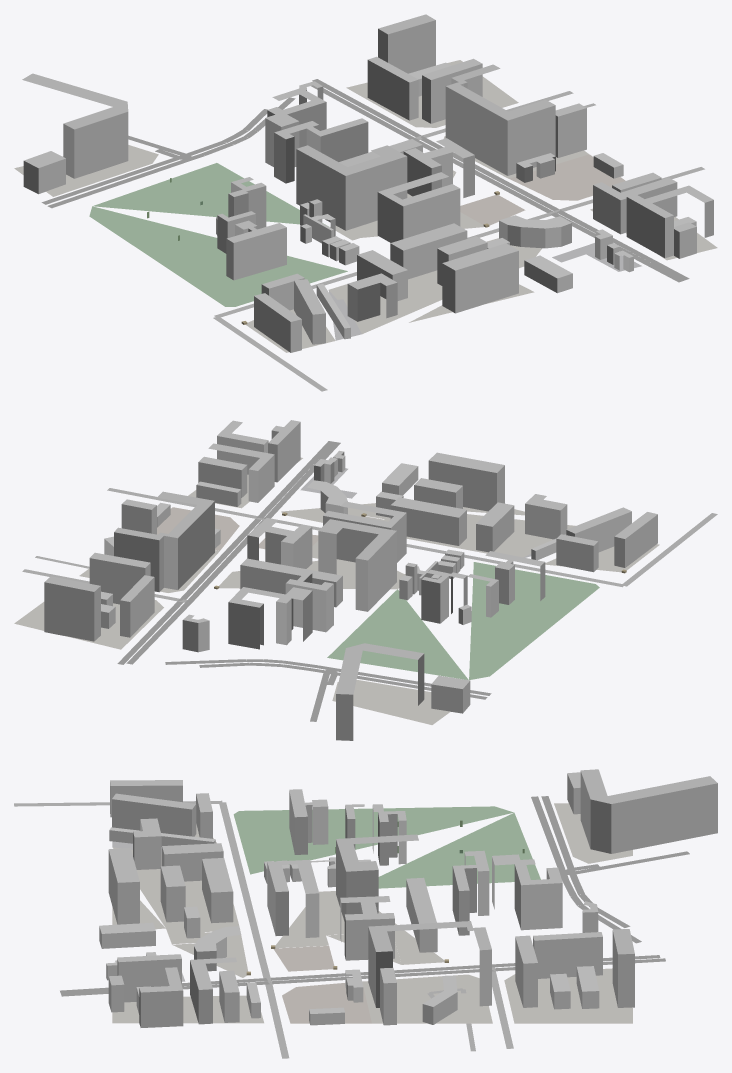
3 renders of one model, top to bottom at view 1: azimuth 30°, elevation 25°; view 2: azimuth 150°, elevation 25°; view 3: azimuth 270°, elevation 25°, orthographic. The views are drawn at different scales.
Size of the model in its own units: 596 by 59.65 by 676.
